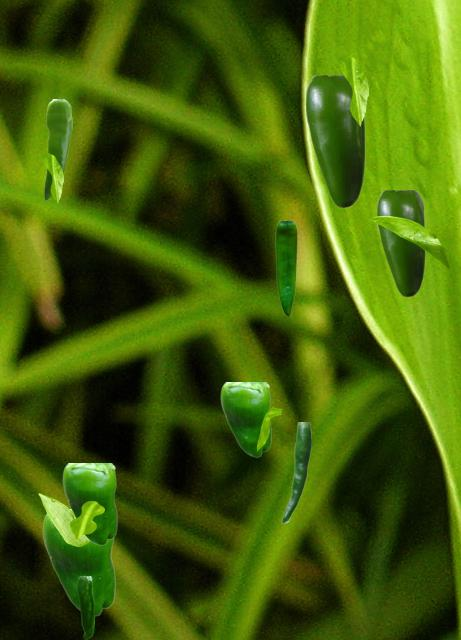green_chili: (306, 75, 364, 207), (42, 513, 114, 615), (377, 190, 424, 296), (62, 463, 116, 544), (220, 382, 270, 456), (281, 422, 310, 522), (44, 99, 71, 199), (275, 221, 296, 315), (77, 576, 93, 638)
